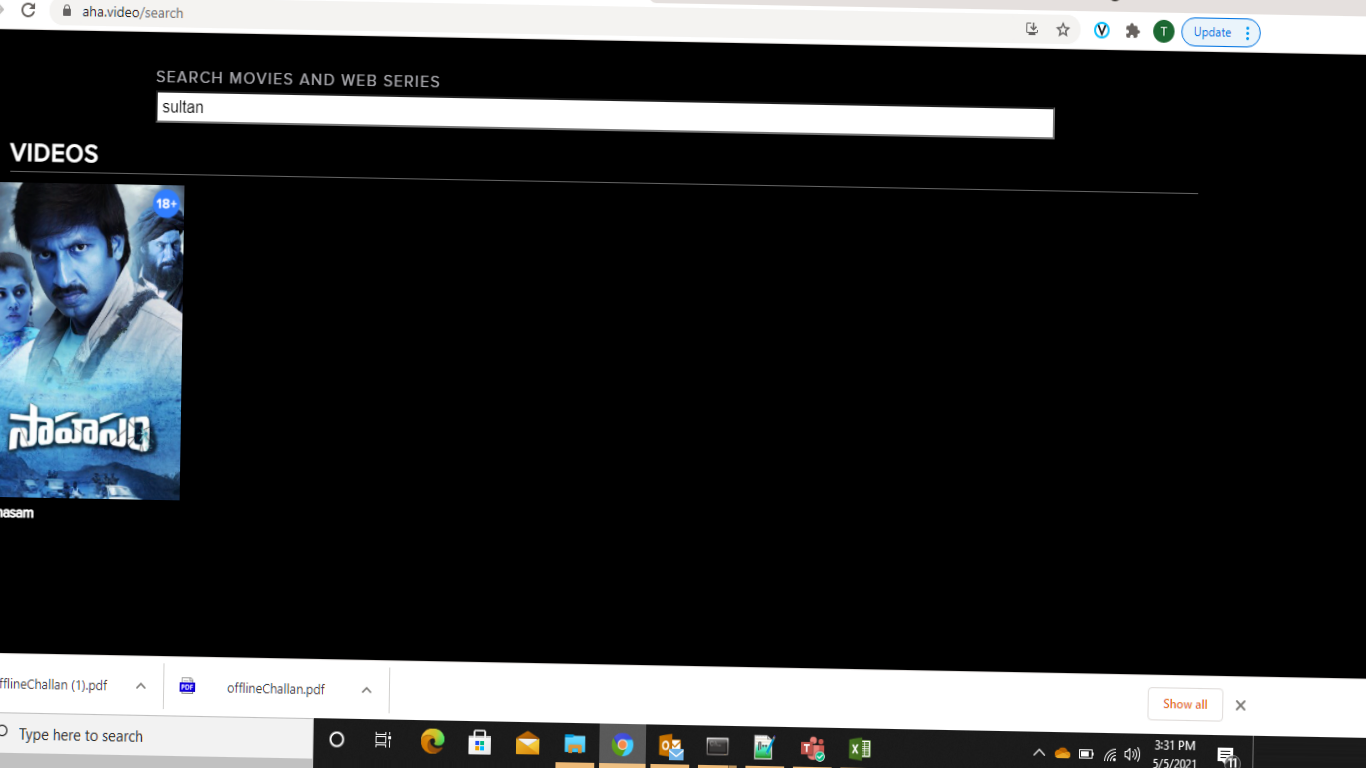resultsfound: (8, 107, 161, 179)
searchtextbox: (155, 57, 1067, 151)
